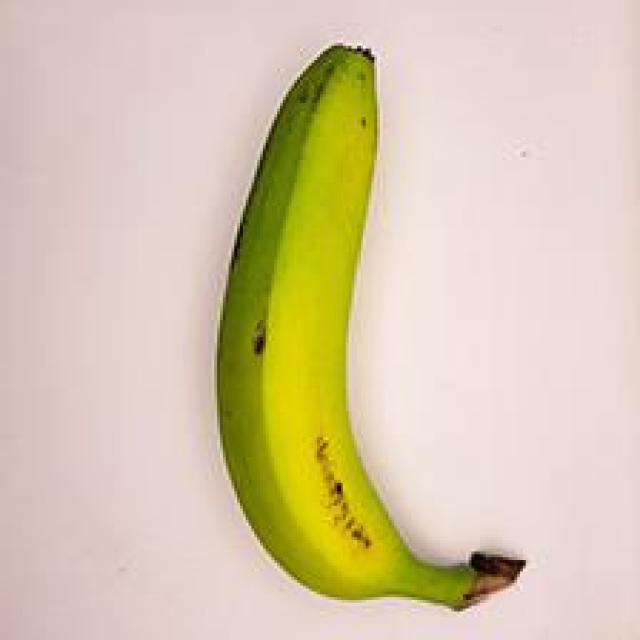Unripe: (186, 14, 560, 640)
